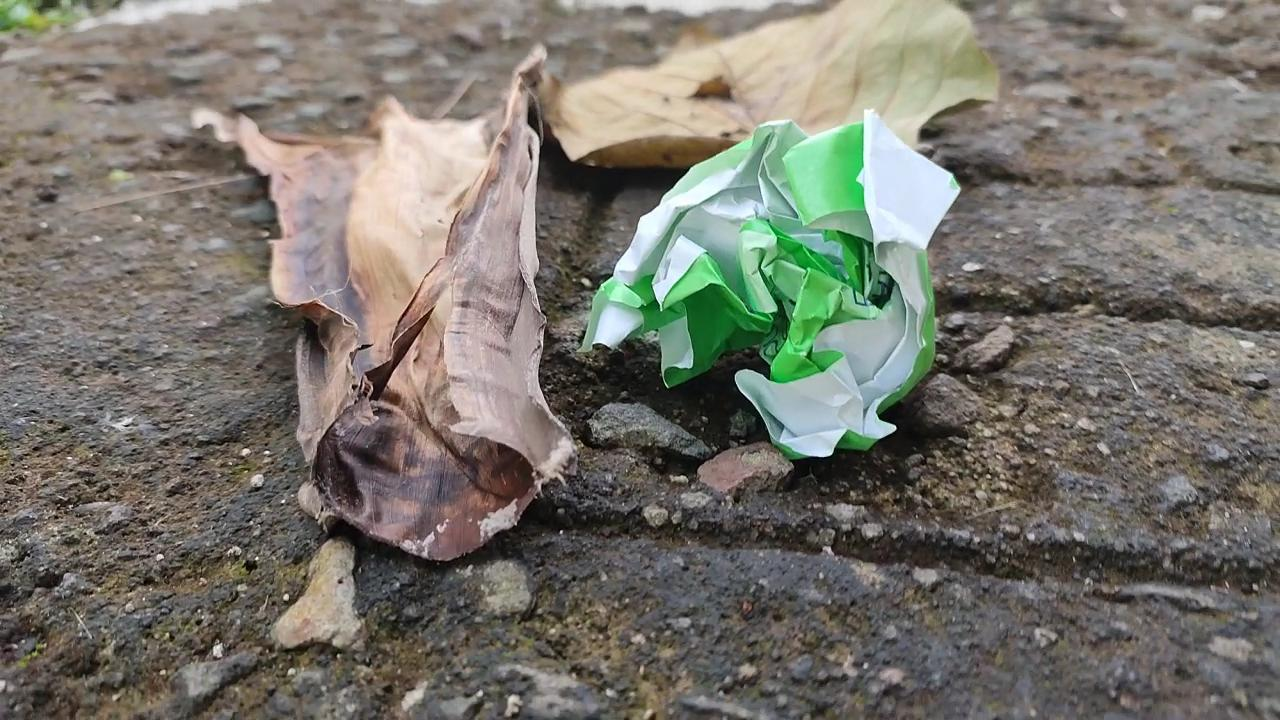Paper: (563, 102, 977, 461)
